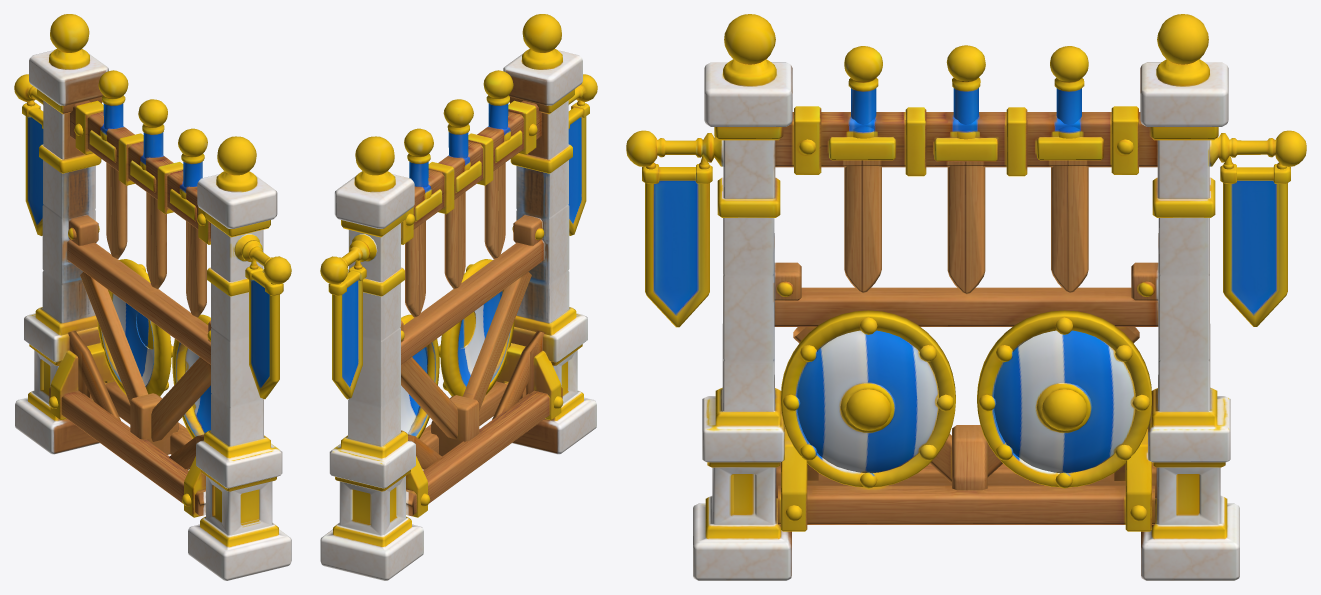
File: HaloReasonHQ_RackShieldSword_SM_tex4k_pbr_src.fbx
3 renders of one model, left to right at view 1: azimuth 30°, elevation 25°; view 2: azimuth 150°, elevation 25°; view 3: azimuth 270°, elevation 25°, orthographic. The views are drawn at different scales.
Visible parts, largest first — view 1: tripo_90cb8937_276a_4089_8db7_88dd5856b97b; view 2: tripo_90cb8937_276a_4089_8db7_88dd5856b97b; view 3: tripo_90cb8937_276a_4089_8db7_88dd5856b97b.
Boxes of the visible parts, <box> form: tripo_90cb8937_276a_4089_8db7_88dd5856b97b: <box>14,14,291,580</box>; tripo_90cb8937_276a_4089_8db7_88dd5856b97b: <box>320,14,597,580</box>; tripo_90cb8937_276a_4089_8db7_88dd5856b97b: <box>626,14,1306,580</box>.
Bounding box in the file's own units: 0.1831 × 0.8833 × 0.9995.
1 material, 1 textured.
